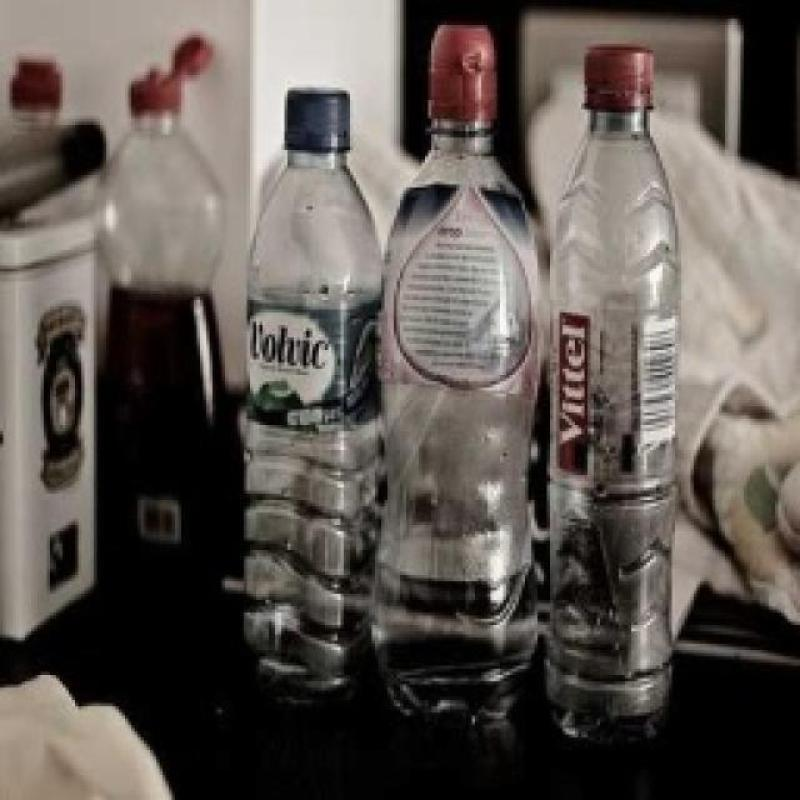botella: (383, 23, 539, 717), (546, 48, 676, 740), (246, 86, 389, 699)
